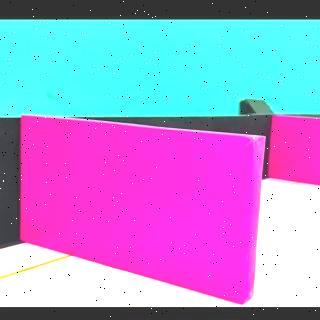xparking: (21, 115, 264, 299), (268, 115, 320, 185)
